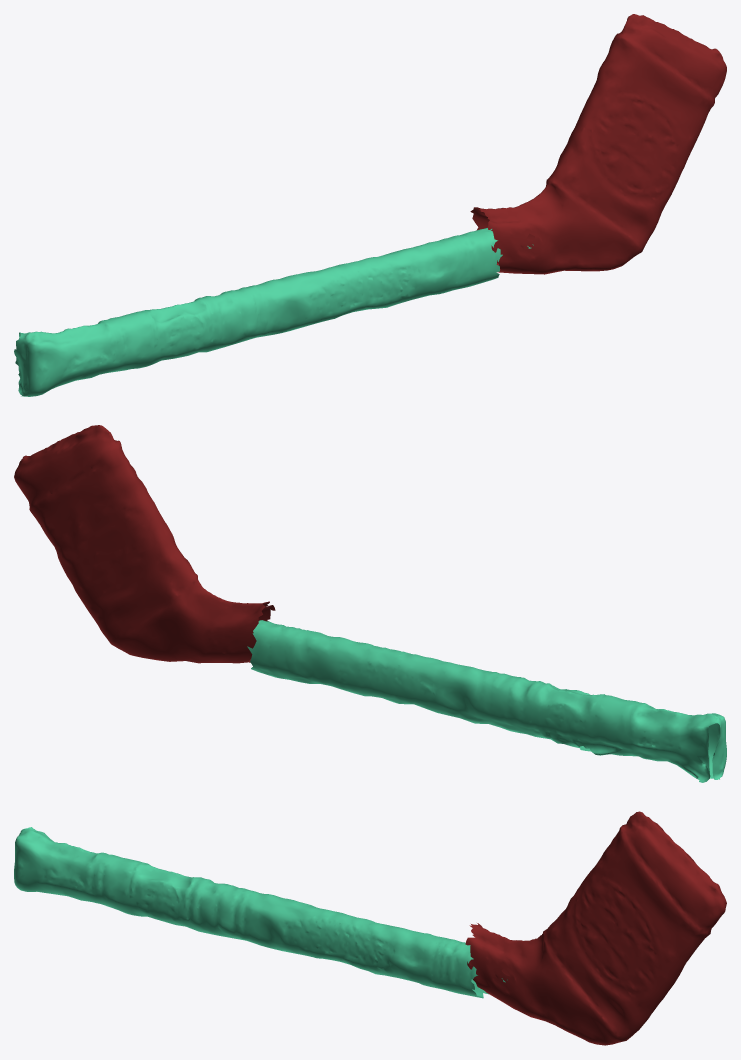
The model's file is object_deformed_7.obj.
3 views of the same model, one above another, from view 1: azimuth 30°, elevation 25°; view 2: azimuth 150°, elevation 25°; view 3: azimuth 330°, elevation 25° (orthographic). The views are drawn at different scales.
Size of the model in its own units: 0.6204 by 0.1969 by 0.0489.
